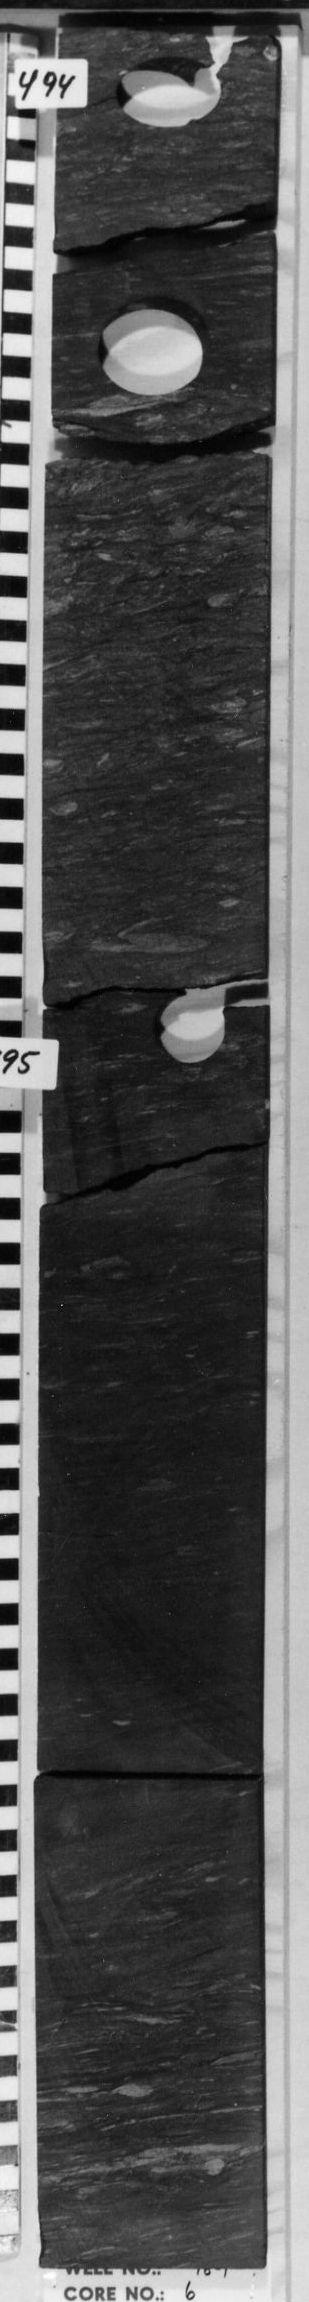hplug: (104, 50, 234, 131), (149, 988, 234, 1069)
scal: (90, 288, 215, 404)
vplug: (53, 997, 135, 1202)
